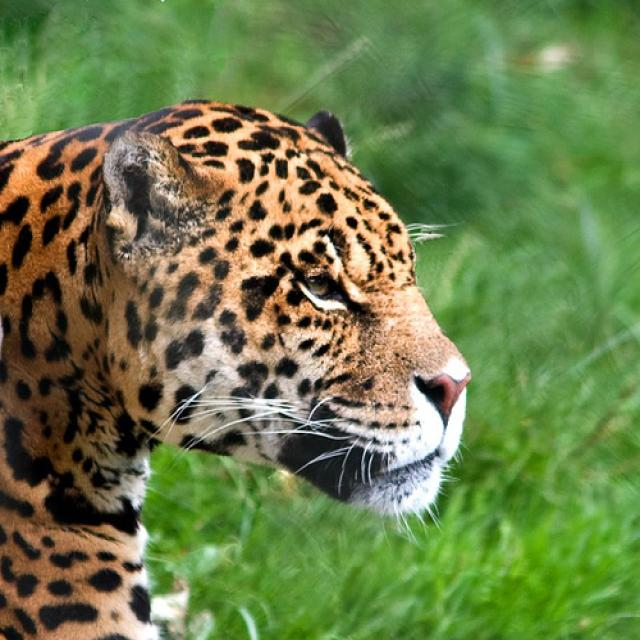Leopard: (0, 99, 467, 636)
